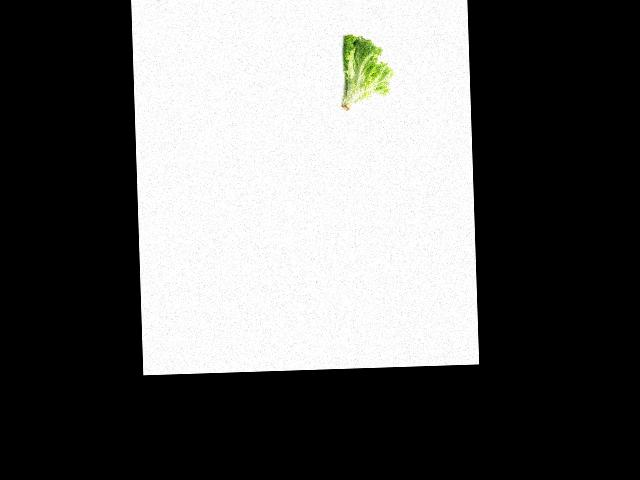lettuce: (338, 33, 395, 112)
